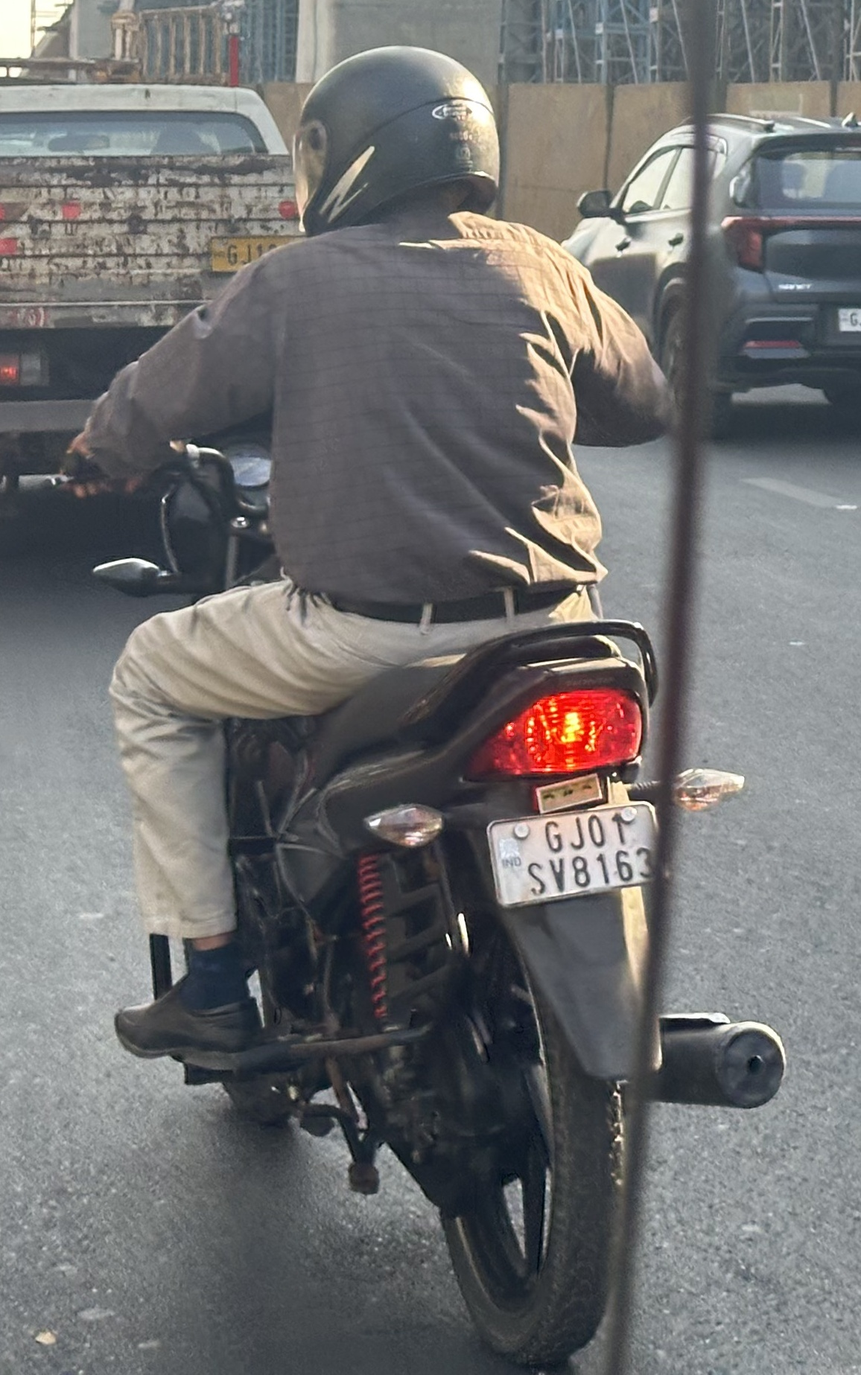BikeWithRider: (43, 28, 799, 1373)
Helmet: (273, 31, 519, 250)
